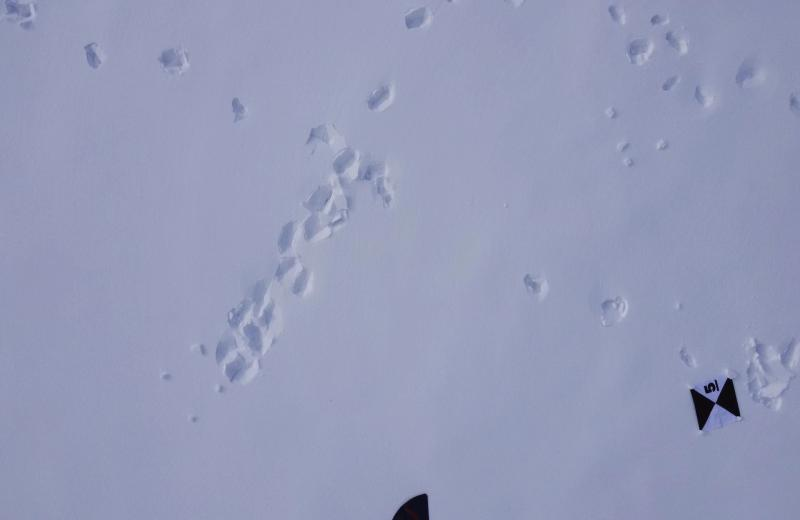Quarter Circle: (384, 492, 434, 520)
